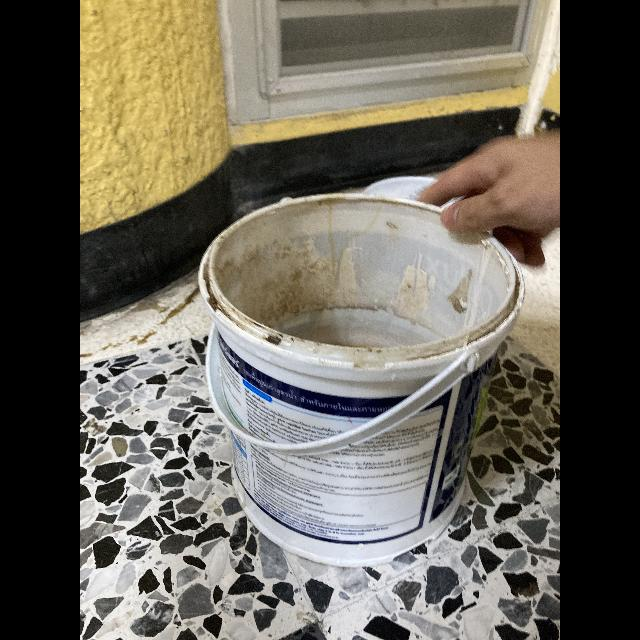paint_bucket: (193, 183, 523, 564)
